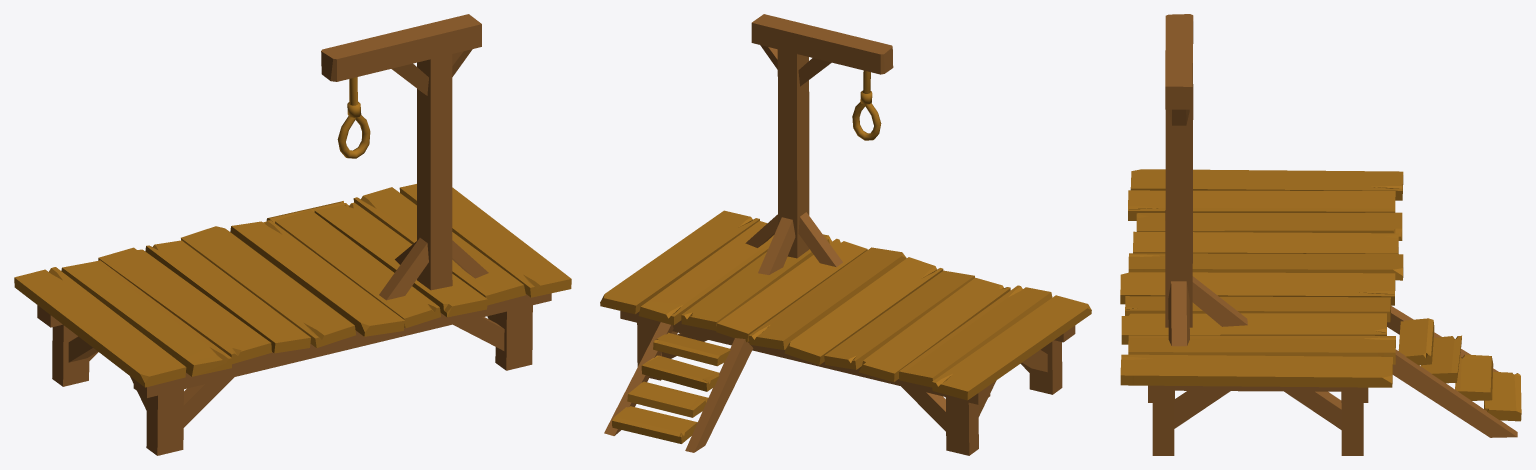
The model's file is forca_2.fbx.
3 renders of one model, left to right at view 1: azimuth 30°, elevation 25°; view 2: azimuth 150°, elevation 25°; view 3: azimuth 270°, elevation 25°, orthographic. The views are drawn at different scales.
Visible parts, largest first — view 1: forca_2; view 2: forca_2; view 3: forca_2.
Boxes of the visible parts, x1,y1,x2,y2 form: forca_2: (14,14,571,455); forca_2: (600,14,1091,455); forca_2: (1120,14,1521,455).
Size of the model in its own units: 520 by 405 by 422.
